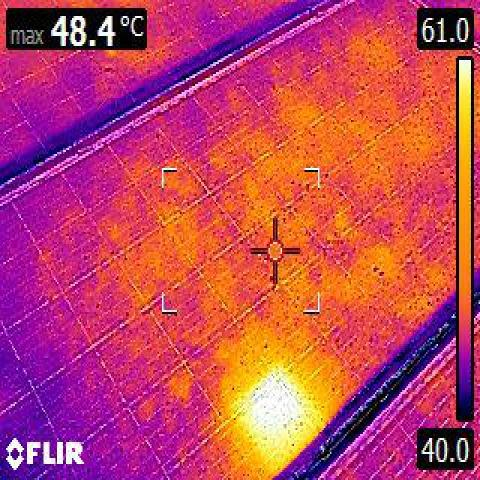fault: (239, 376, 305, 447)
